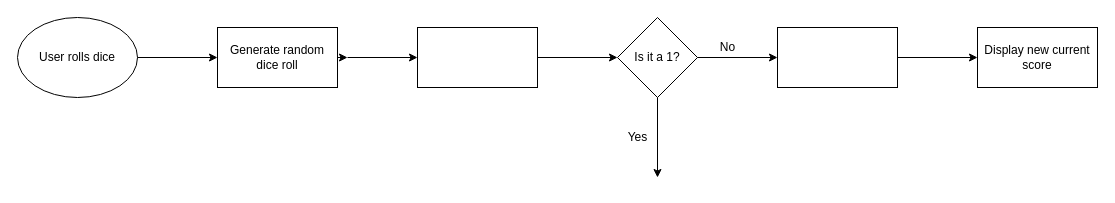
Some shapes in this 1115 by 203 pixel diagram are drawn without their labels. Each missing label, with the centre of its shape:
"Add dice roll to current score" goes at (837,57).
"Display dice roll" goes at (477,57).
